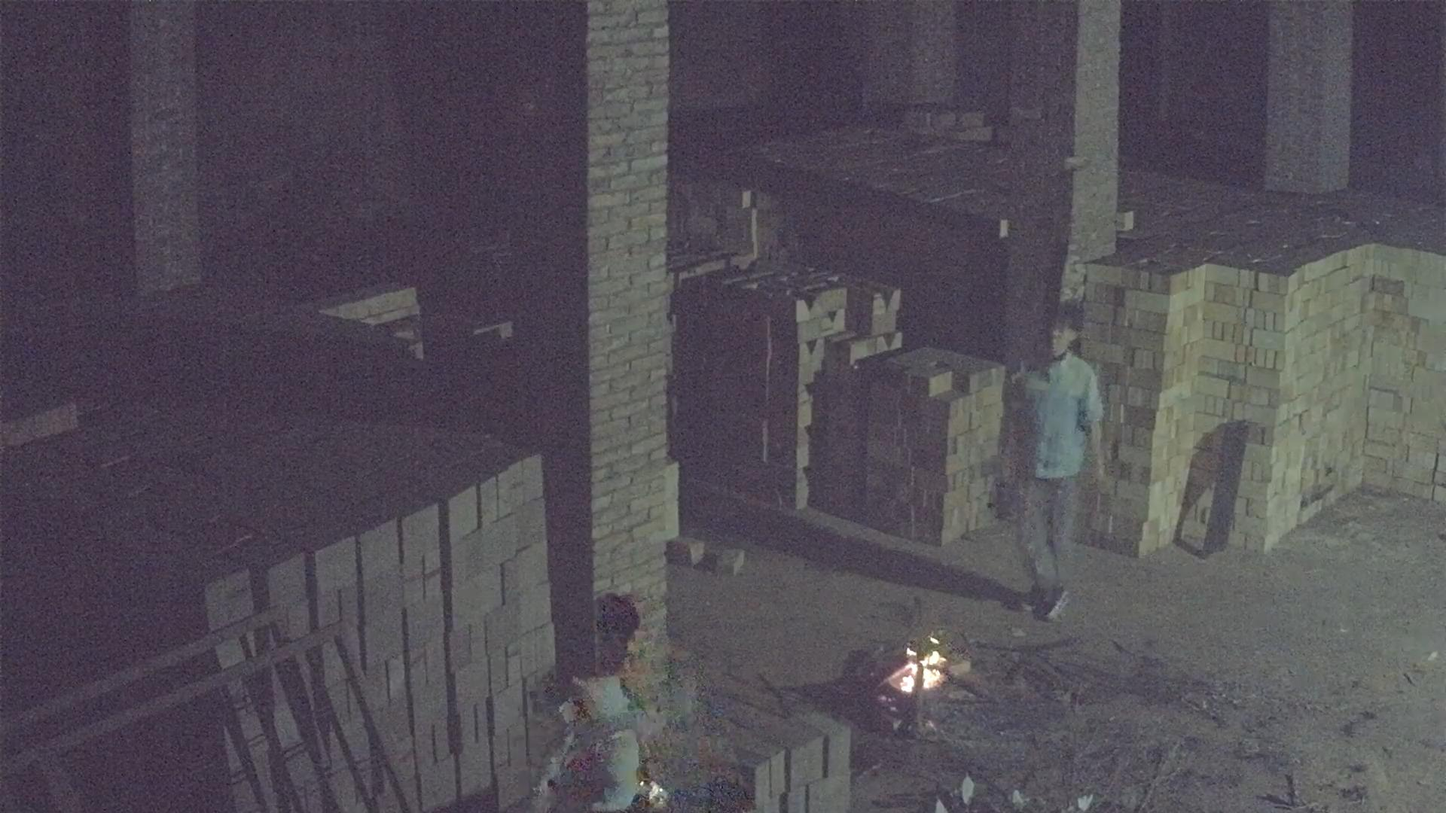fire: (887, 637, 947, 696)
